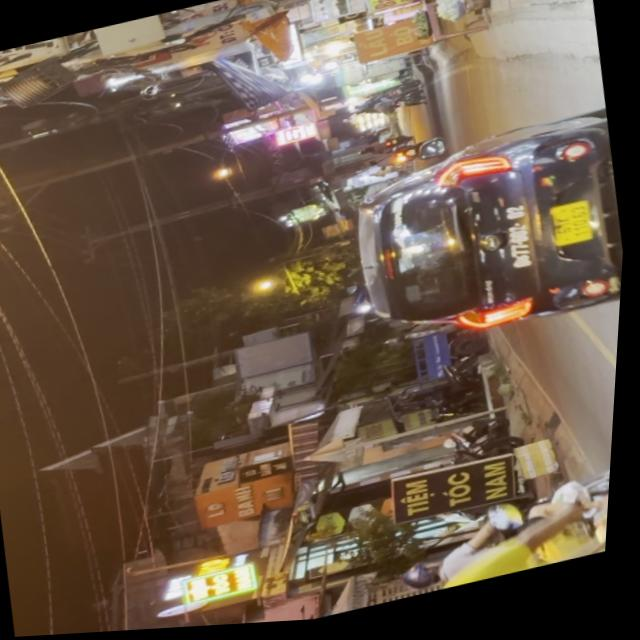helmet: (405, 565, 451, 600)
